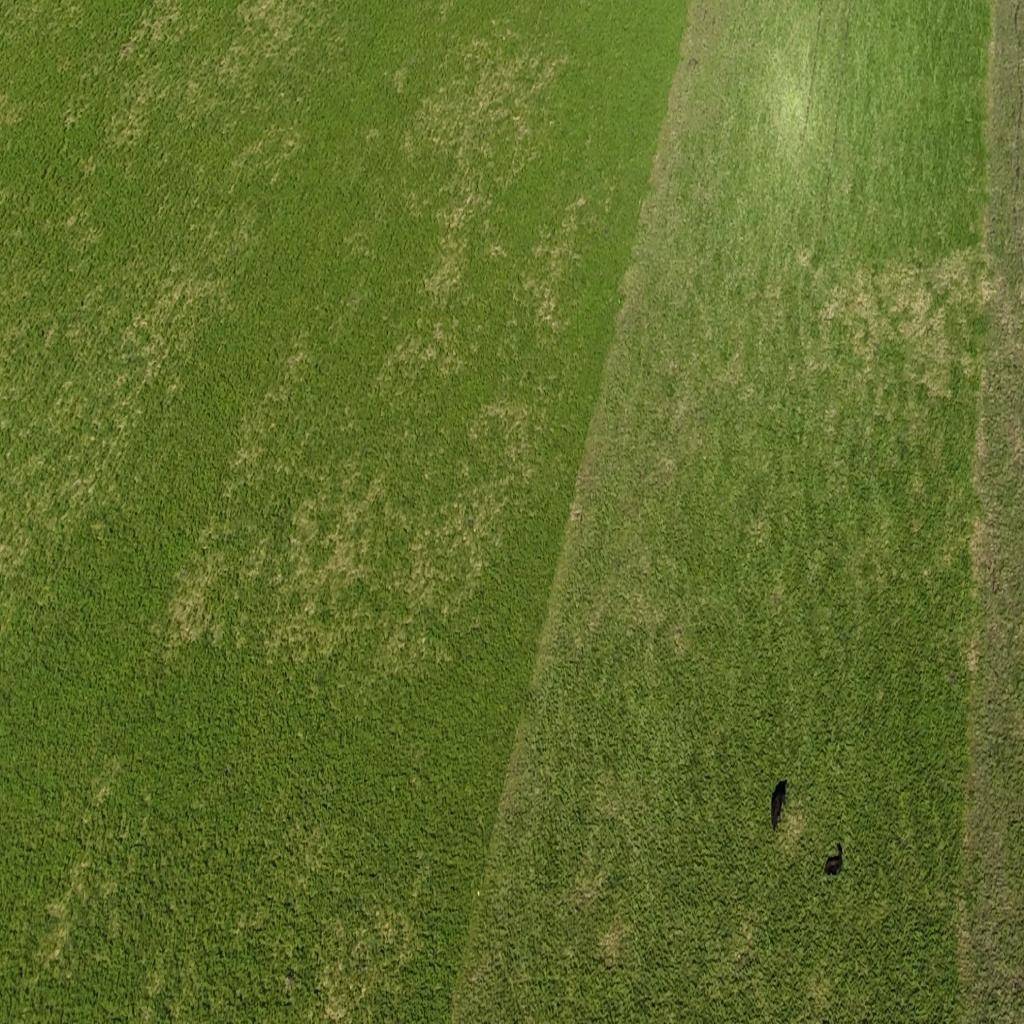cow: (770, 785, 784, 833), (824, 850, 844, 877)
